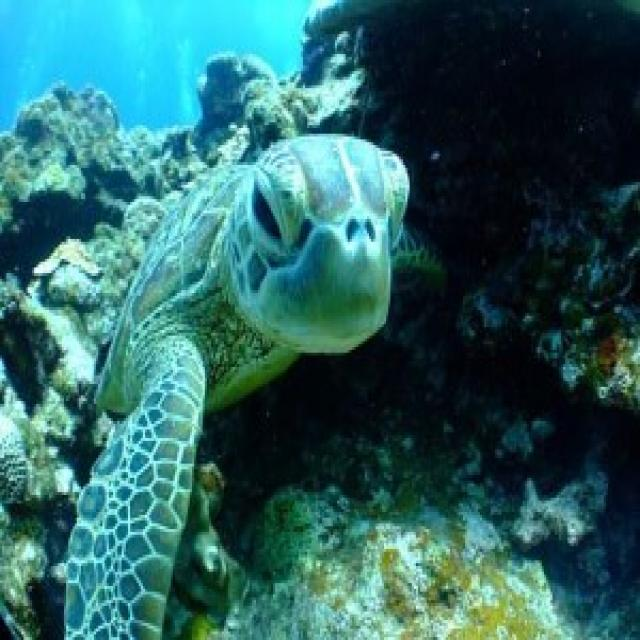Sea turtle: (31, 101, 422, 640)
